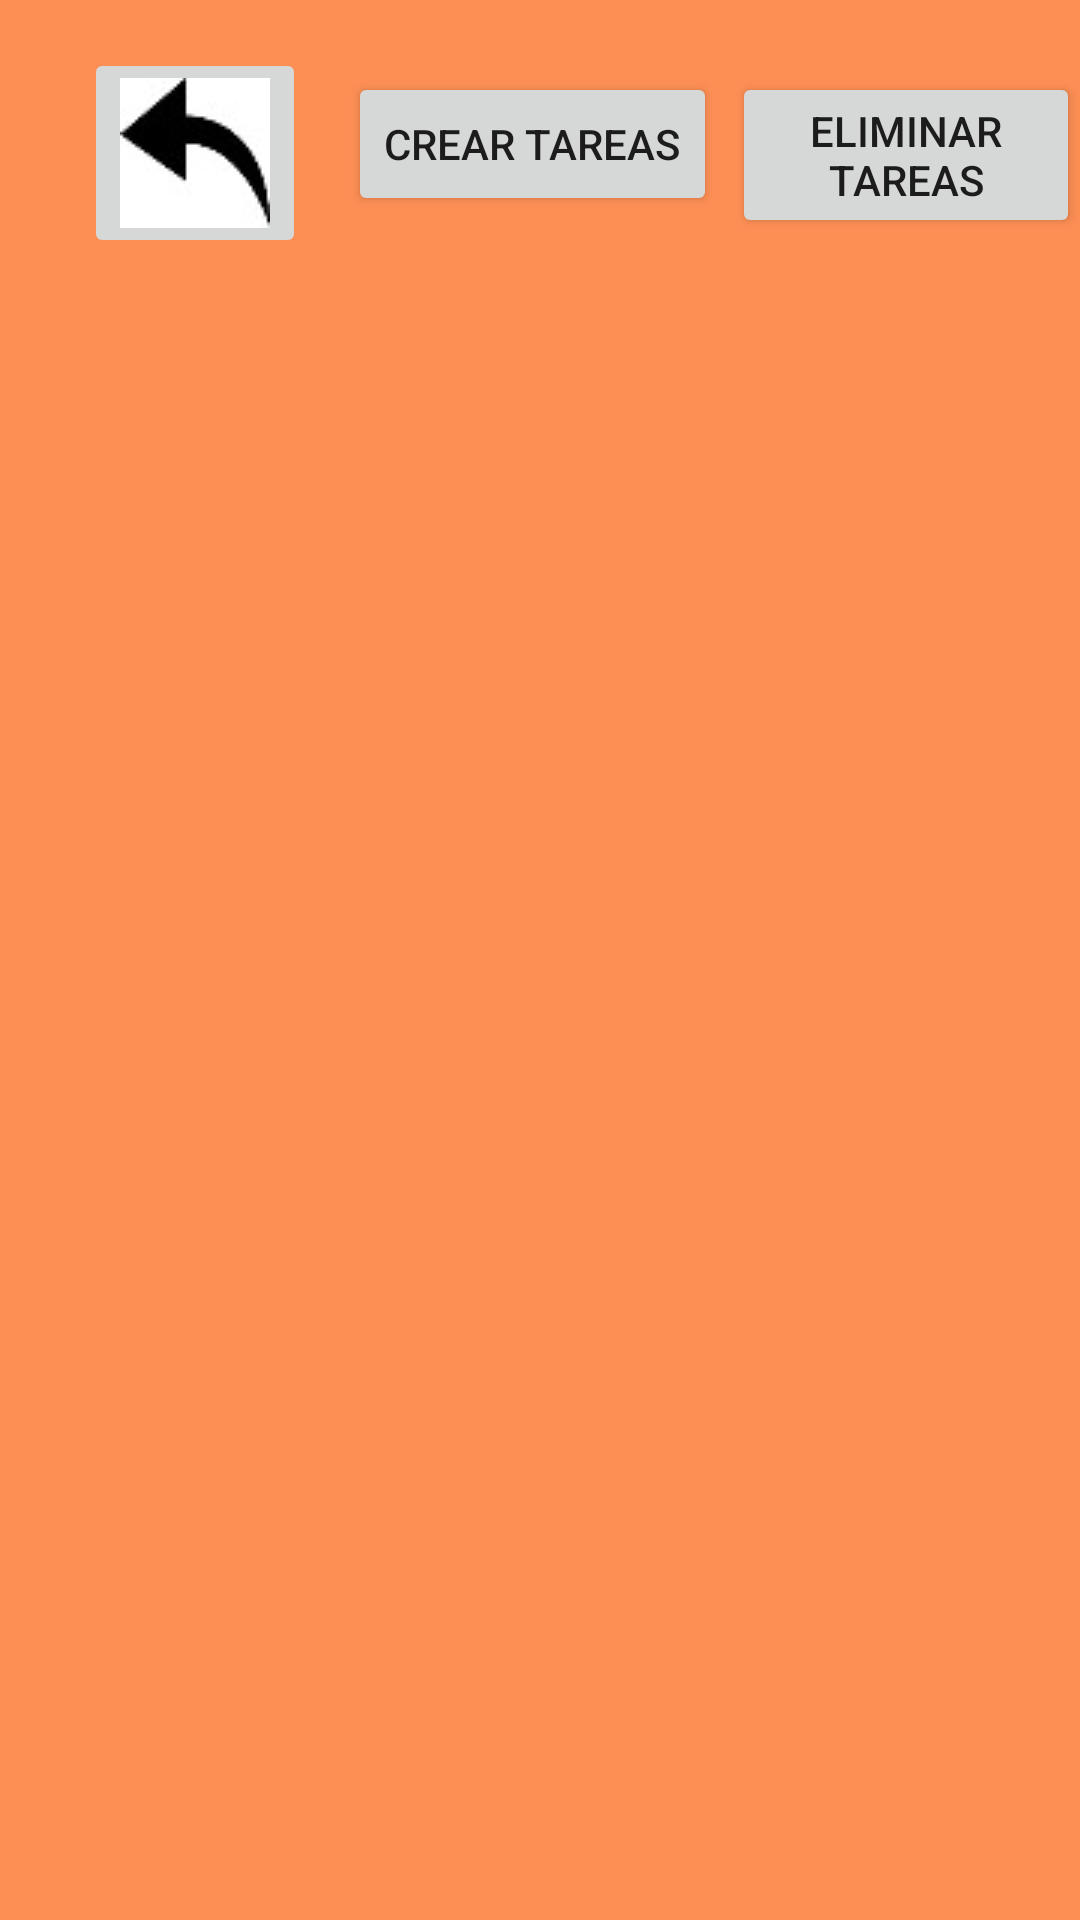

Icon click points for this 1080w x 1920h phone screenshot, format (x=x, y=y):
volver: (x=195, y=153)
